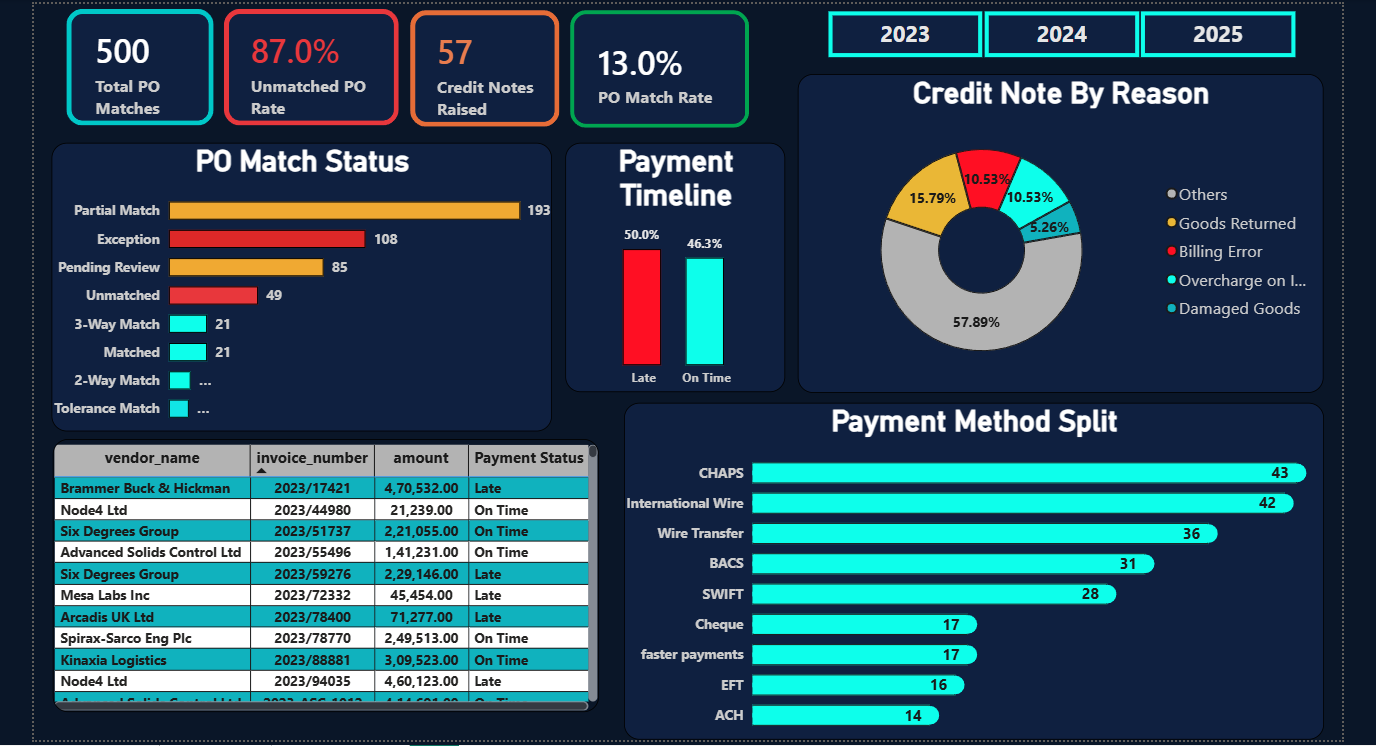

The page's visual inventory and layout, read from the dashboard file:
{"tool":"powerbi","page":{"name":"Performance","canvas":[1280,720],"ordinal":1},"visuals":[{"type":"cardVisual","fields":{"Data":["Measures_.Total PO Matches"]},"box":[27.3,0,154.1,124.1],"z":0},{"type":"cardVisual","fields":{"Data":["Measures_.Unmatched POs"]},"box":[181,0,181,124.5],"z":1000},{"type":"cardVisual","fields":{"Data":["Measures_.Credit Notes Raised"]},"box":[362.7,1.4,156.8,124.1],"z":2000},{"type":"cardVisual","fields":{"Data":["Measures_.PO Match Rate"]},"box":[519.5,1.4,185.4,125.4],"z":3000},{"type":"clusteredBarChart","title":"PO Match Status","fields":{"Y":["CountNonNull(po_invoice_matching_clean.match_id)"],"Category":["po_invoice_matching_clean.match_status"]},"box":[17.7,136.3,489.5,282.2],"z":4000},{"type":"donutChart","title":"Credit Note By Reason","fields":{"Category":["credit_notes_clean.Reason Group"],"Y":["CountNonNull(credit_notes_clean.credit_note_number)"]},"box":[747.2,68.2,514,312.2],"z":5000},{"type":"clusteredBarChart","title":"Payment Method Split","fields":{"Category":["payments_clean.payment_method"],"Y":["CountNonNull(payments_clean.payment_reference)"]},"box":[576.7,389.9,684.5,330],"z":6000},{"type":"slicer","fields":{"Values":["payments_clean.payment_date.Variation.Date Hierarchy.Year1"]},"box":[751.3,0,507.2,58.6],"z":7000},{"type":"clusteredColumnChart","title":"Payment Timeline","fields":{"Category":["payments_clean.Payment Status"],"Y":["payments_clean.Payment %"]},"box":[519.5,136.3,215.4,244.1],"z":8000},{"type":"tableEx","fields":{"Values":["vendors_clean.vendor_name","invoices_clean.invoice_number","Sum(payments_clean.payment_amount)","payments_clean.Payment Status"]},"box":[18,425,534,267],"z":9000}]}

Visuals, with their boxes on the page's 1280x720 design canvas (x1, y1, x2, y2). These are canvas units, not pixel positions in the 1376x746 screenshot, which may show the page scaled, cropped or inside an application window:
cardVisual - Measures_.Total PO Matches: <region>27, 0, 181, 124</region>
cardVisual - Measures_.Unmatched POs: <region>181, 0, 362, 124</region>
cardVisual - Measures_.Credit Notes Raised: <region>363, 1, 520, 126</region>
cardVisual - Measures_.PO Match Rate: <region>520, 1, 705, 127</region>
"PO Match Status" clusteredBarChart: <region>18, 136, 507, 418</region>
"Credit Note By Reason" donutChart: <region>747, 68, 1261, 380</region>
"Payment Method Split" clusteredBarChart: <region>577, 390, 1261, 720</region>
slicer - payments_clean.payment_date.Variation.Date Hierarchy.Year1: <region>751, 0, 1258, 59</region>
"Payment Timeline" clusteredColumnChart: <region>520, 136, 735, 380</region>
tableEx - vendors_clean.vendor_name x invoices_clean.invoice_number: <region>18, 425, 552, 692</region>
